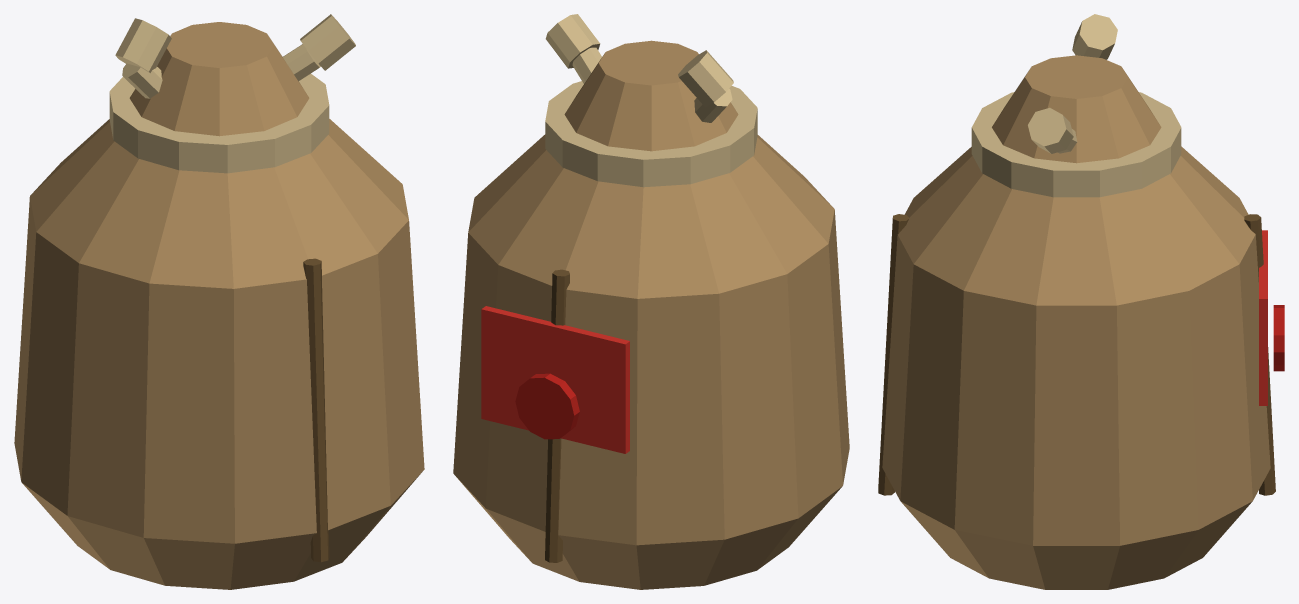
Rendered from HomebaseMailSack_LOD00.gltf.
The picture shows the model from 3 angles, left to right: view 1: azimuth 30°, elevation 25°; view 2: azimuth 150°, elevation 25°; view 3: azimuth 270°, elevation 25°; orthographic projection. The views are drawn at different scales.
Parts seen in each view (by area): view 1: HomebaseMailSack_node; view 2: HomebaseMailSack_node; view 3: HomebaseMailSack_node.
Boxes of the visible parts, box(x1,y1,x2,y2) form: HomebaseMailSack_node: box(14, 14, 424, 589); HomebaseMailSack_node: box(453, 14, 849, 589); HomebaseMailSack_node: box(878, 14, 1284, 589).
Bounding box in the file's own units: 0.5167 × 0.7482 × 0.5508.
